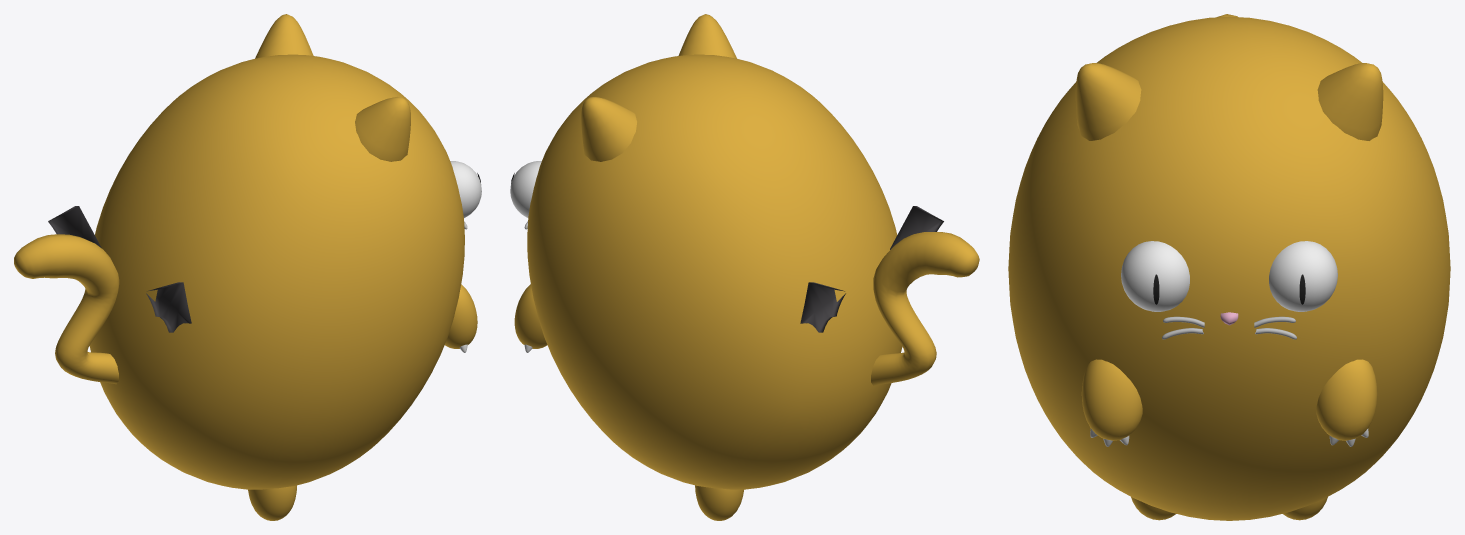
File: izayoi_02.glb
The picture shows the model from 3 angles, left to right: view 1: azimuth 30°, elevation 25°; view 2: azimuth 150°, elevation 25°; view 3: azimuth 270°, elevation 25°; orthographic projection. The views are drawn at different scales.
Parts seen in each view (by area): view 1: orange_body, orange_tail, orange_ear, orange_wing, orange_leg, orange_hand, orange_eye; view 2: orange_body, orange_tail, orange_ear, orange_wing, orange_leg, orange_hand, orange_eye; view 3: orange_body, orange_ear, orange_hand, orange_eye, orange_leg.
Boxes of the visible parts, x1,y1,x2,y2 form: orange_body: [89, 54, 464, 489]; orange_tail: [14, 234, 119, 384]; orange_ear: [255, 14, 410, 161]; orange_wing: [48, 206, 191, 332]; orange_leg: [248, 485, 296, 520]; orange_hand: [445, 284, 477, 348]; orange_eye: [450, 161, 481, 217]; orange_body: [527, 54, 902, 489]; orange_tail: [871, 232, 979, 385]; orange_ear: [581, 14, 736, 161]; orange_wing: [800, 206, 943, 332]; orange_leg: [695, 485, 743, 520]; orange_hand: [514, 284, 547, 348]; orange_eye: [510, 161, 541, 217]; orange_body: [1008, 16, 1450, 520]; orange_ear: [1075, 63, 1383, 140]; orange_hand: [1081, 359, 1377, 440]; orange_eye: [1121, 241, 1337, 311]; orange_leg: [1131, 497, 1327, 520].
Size of the model in its own units: 2.34 by 2.15 by 1.68.
